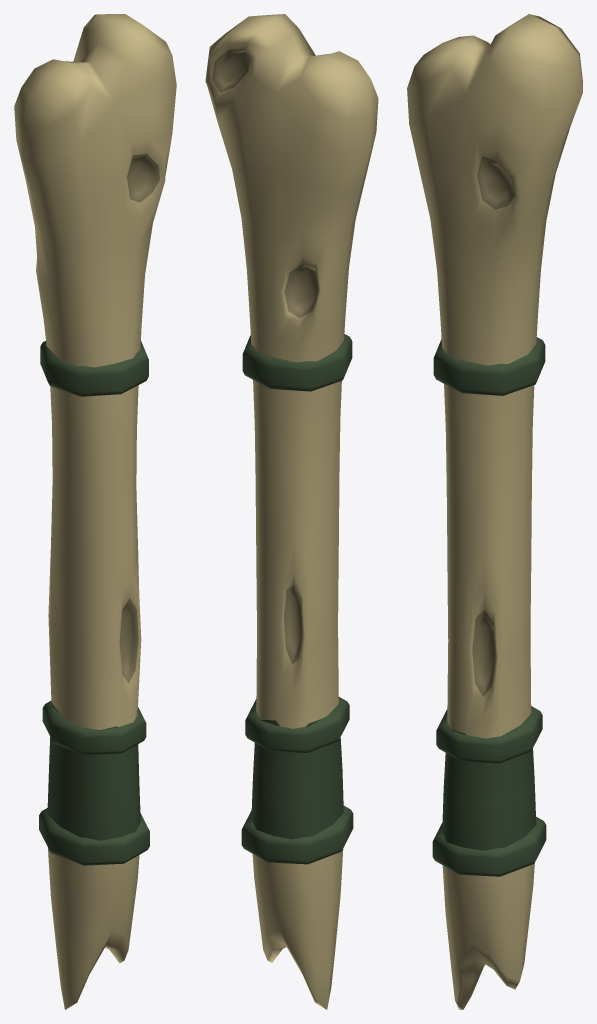
Rendered from armainimigo.fbx.
3 views of the same model, side by side, from view 1: azimuth 30°, elevation 25°; view 2: azimuth 150°, elevation 25°; view 3: azimuth 330°, elevation 25° (orthographic). The views are drawn at different scales.
Visible parts, largest first — view 1: Cube; view 2: Cube; view 3: Cube.
Part boxes in pixels (box(x1,y1,x2,y2)): Cube: box(14, 14, 176, 1009); Cube: box(205, 14, 378, 1009); Cube: box(407, 14, 582, 1009).
Bounding box in the file's own units: 405 × 2507 × 286.
